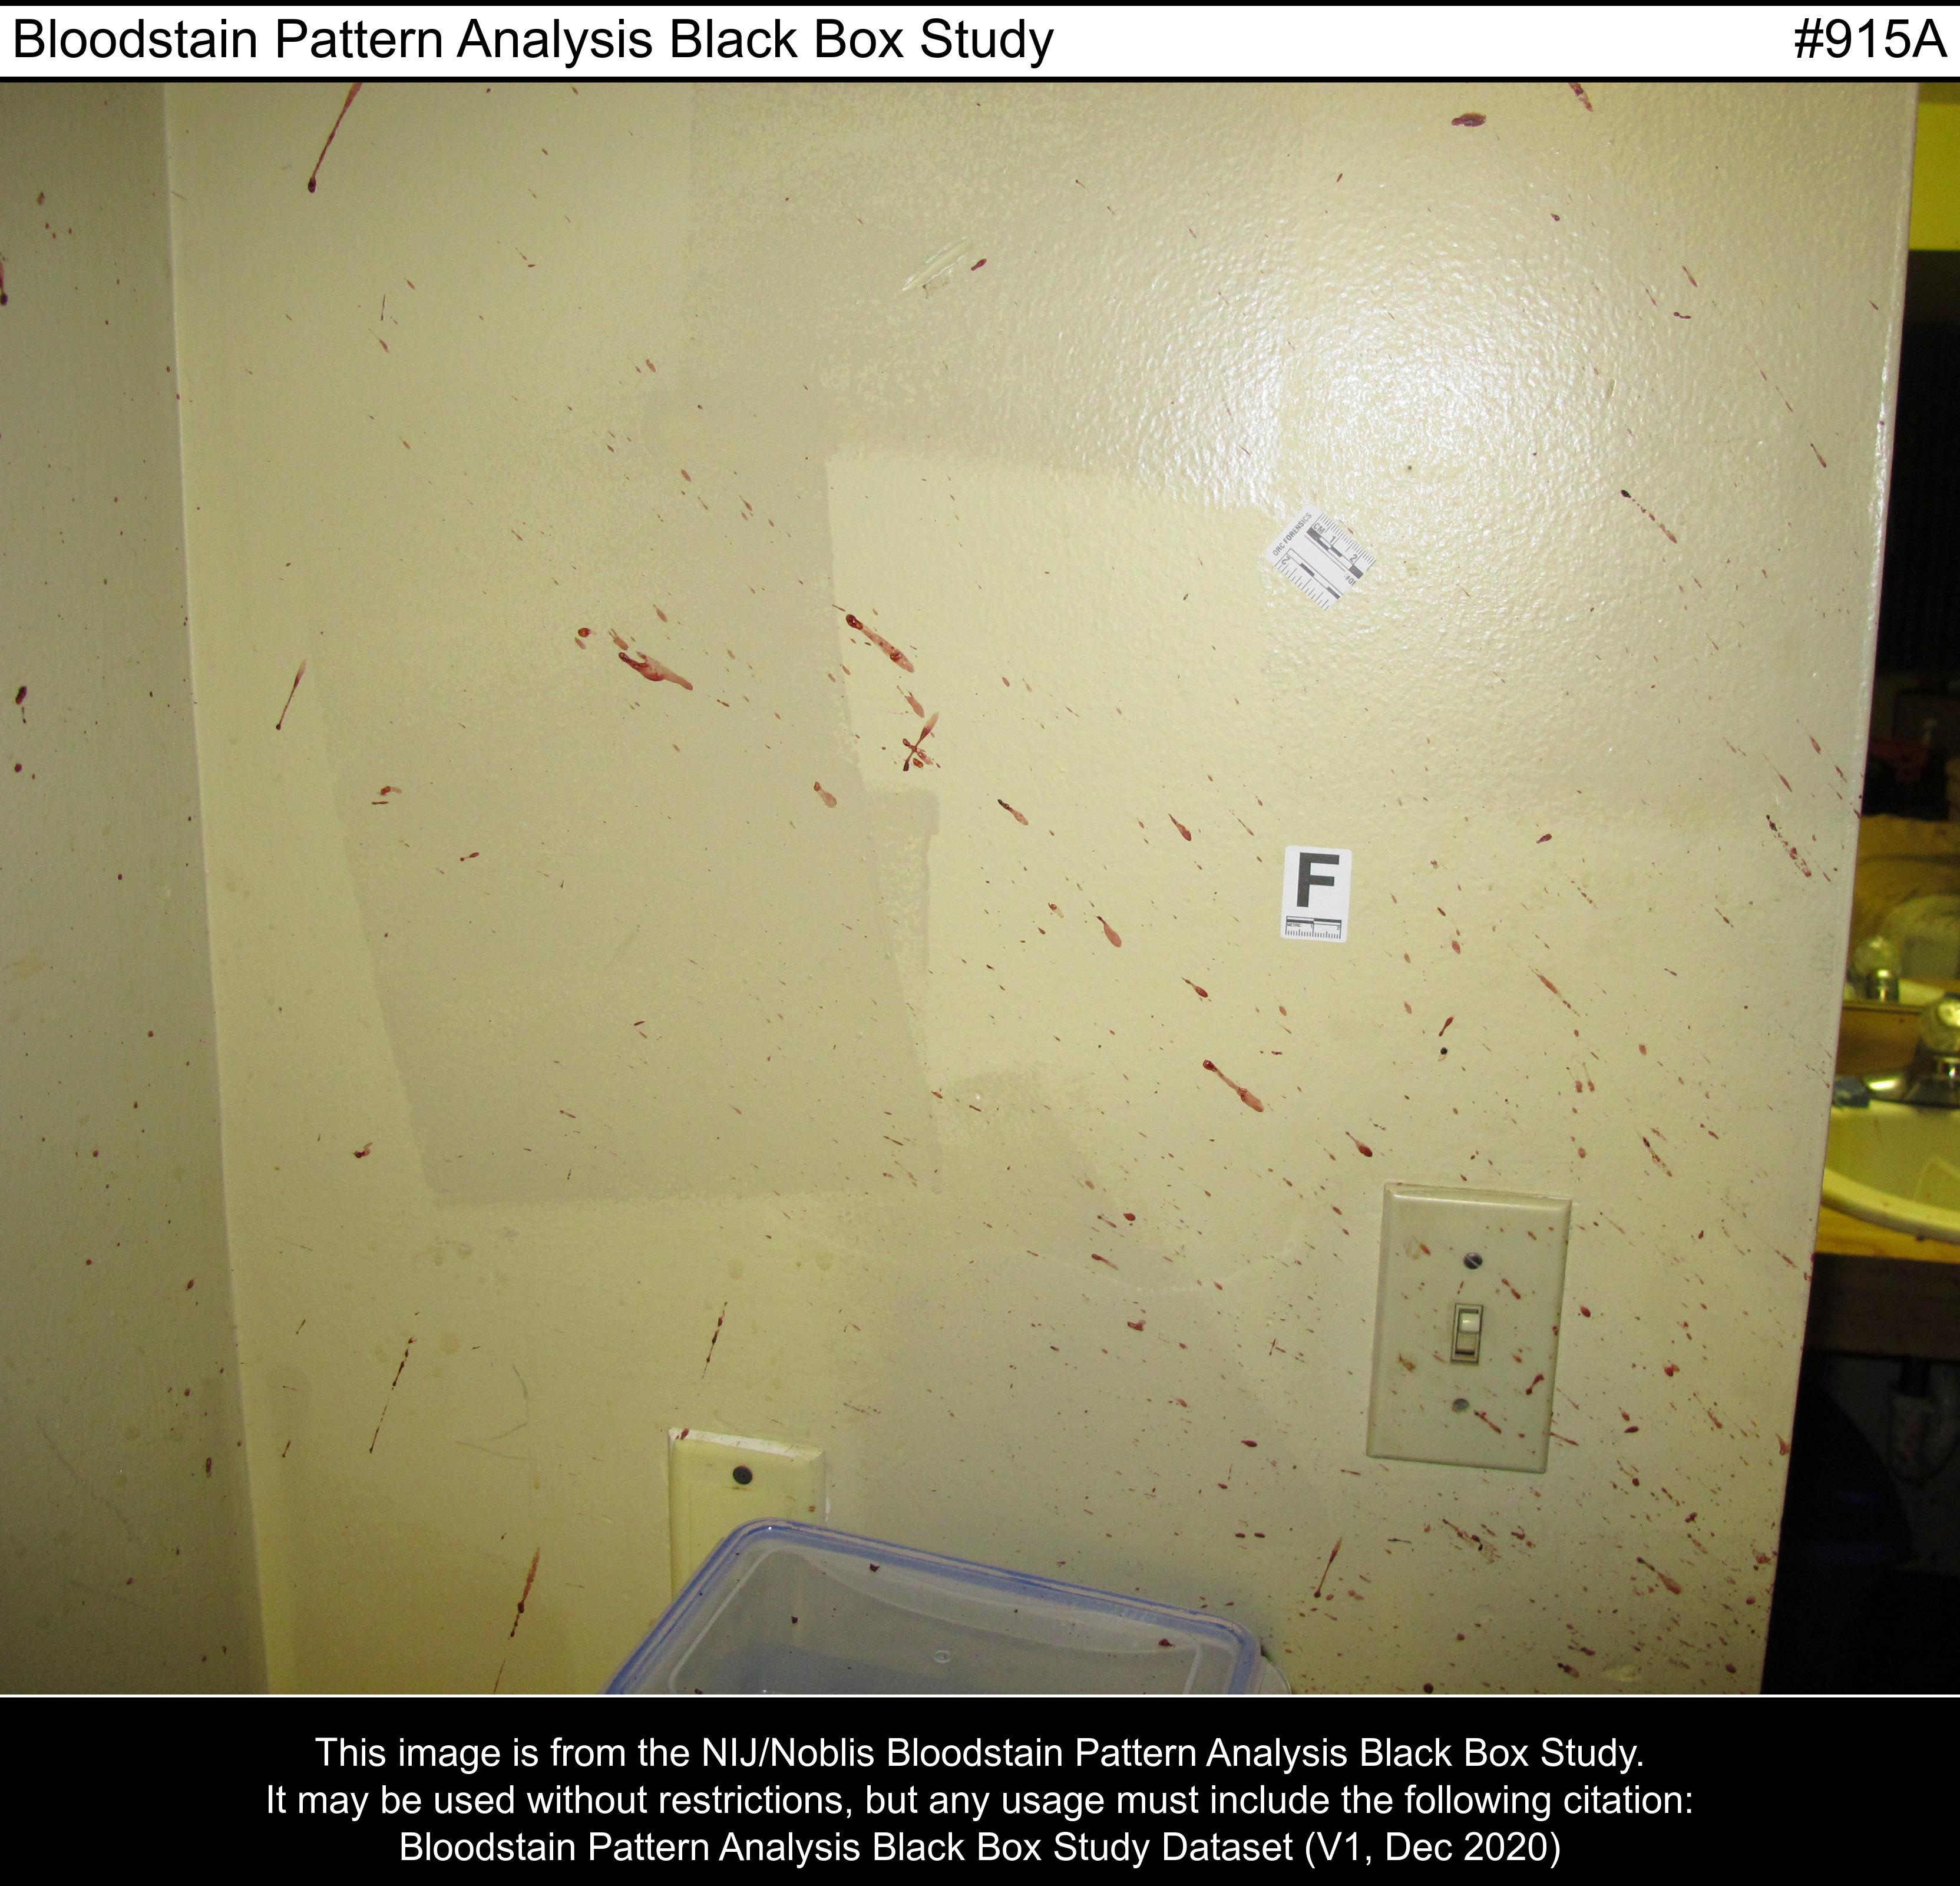Impact: (0, 73, 1754, 1685)
